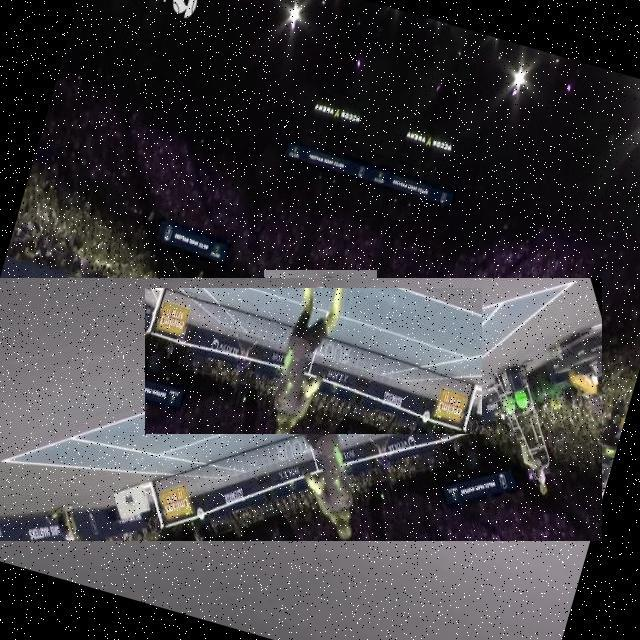court: (0, 278, 602, 541)
net: (145, 288, 482, 434)
player: (264, 270, 377, 490)
